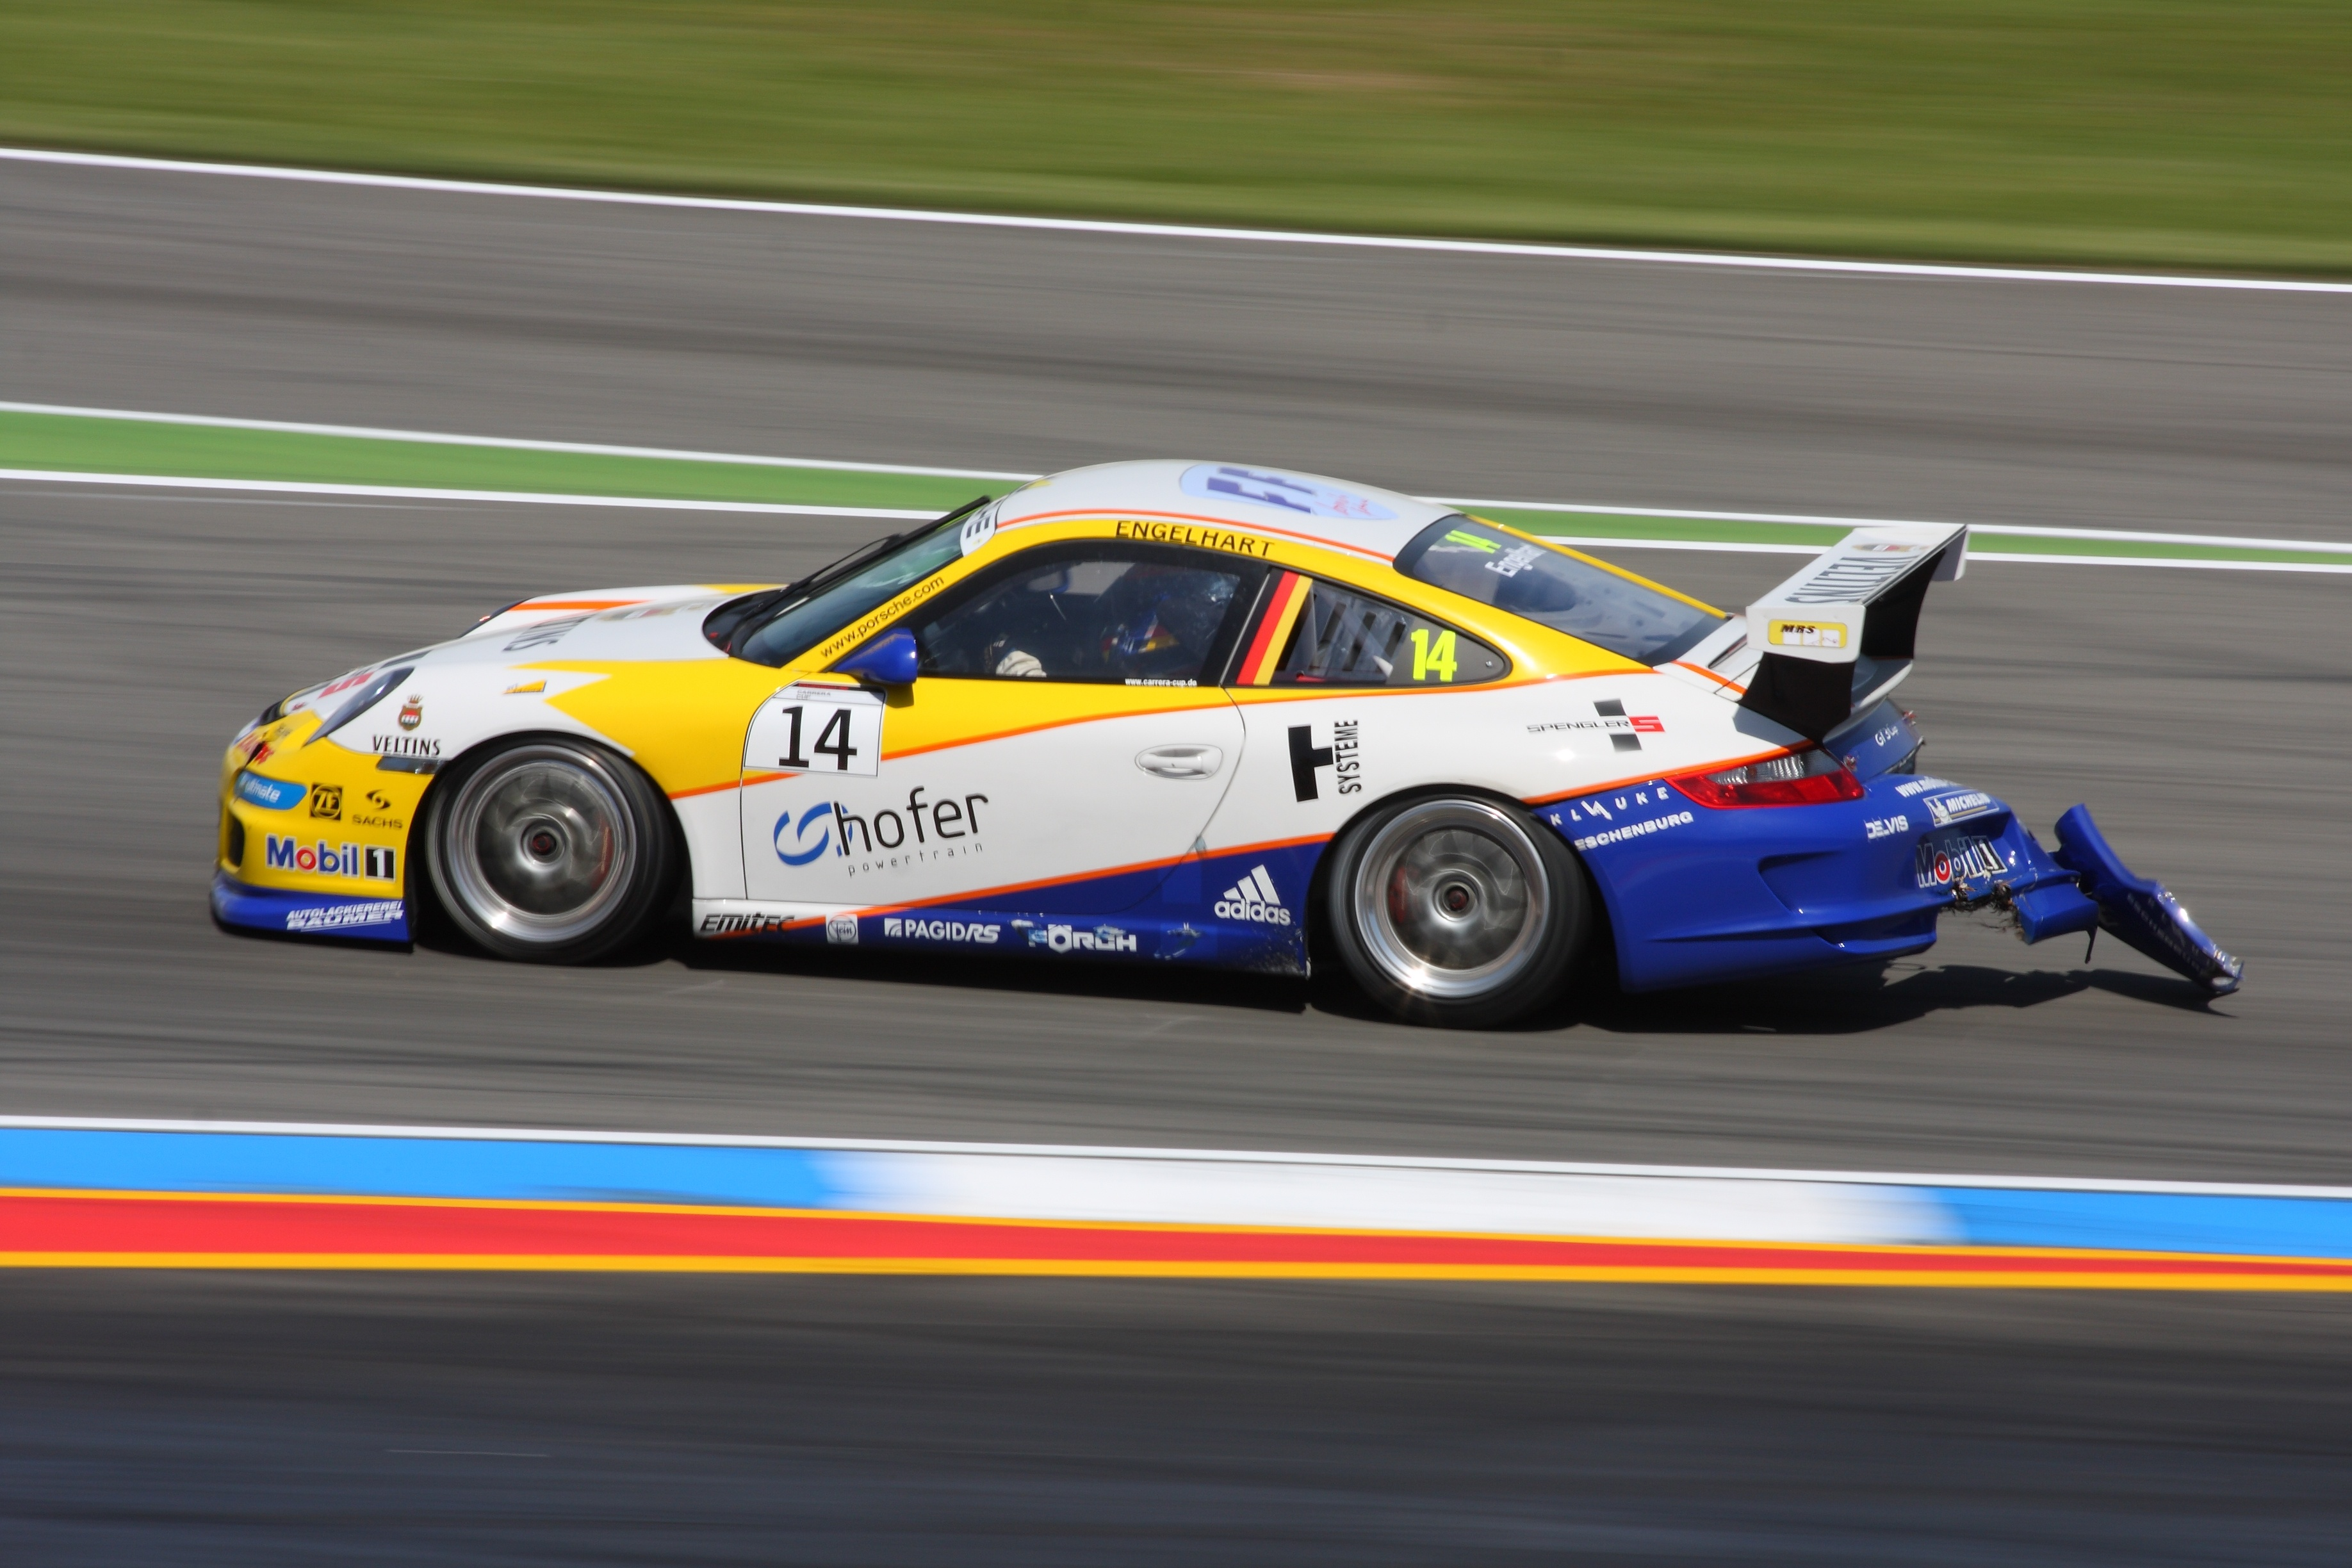racing car: (227, 443, 2254, 1038)
